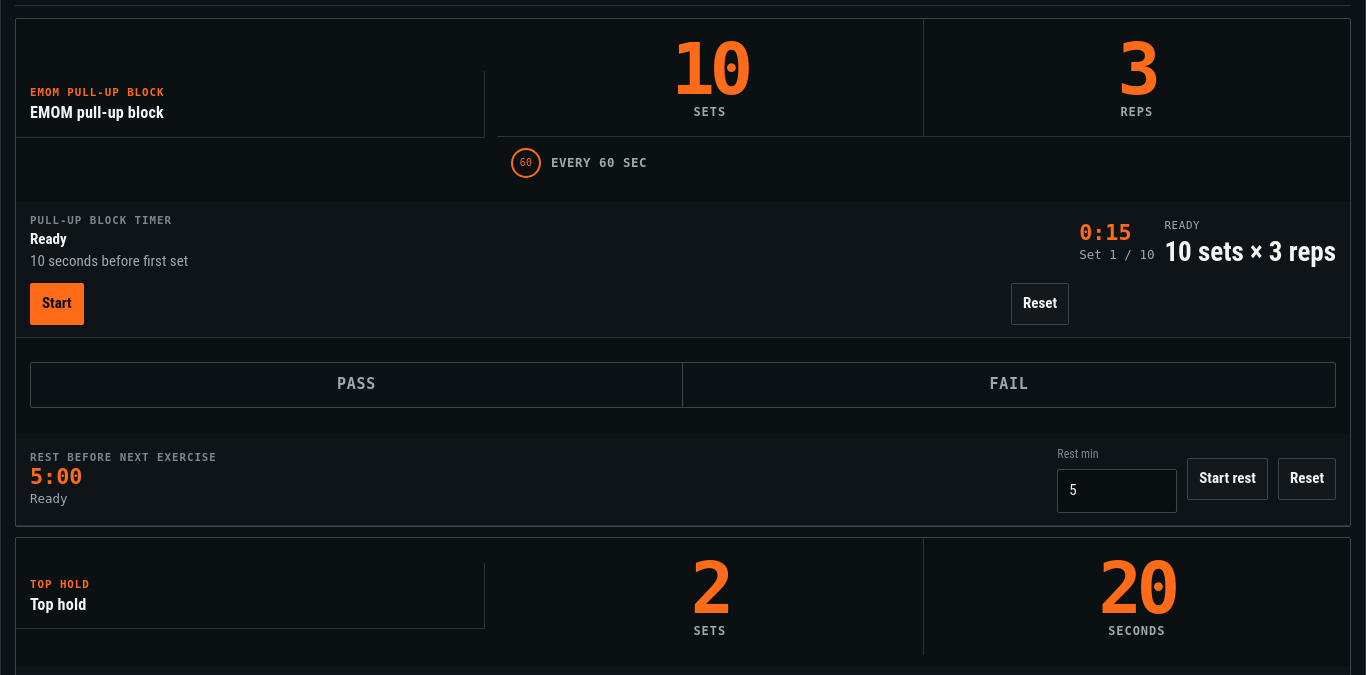
LogWorkoutScreen preset rows › autosaves preset outcomes as an in-progress workout draft
(page scrolled)
Click the button "pass" at (357, 385), box [31,363,683,407]
(page scrolled)
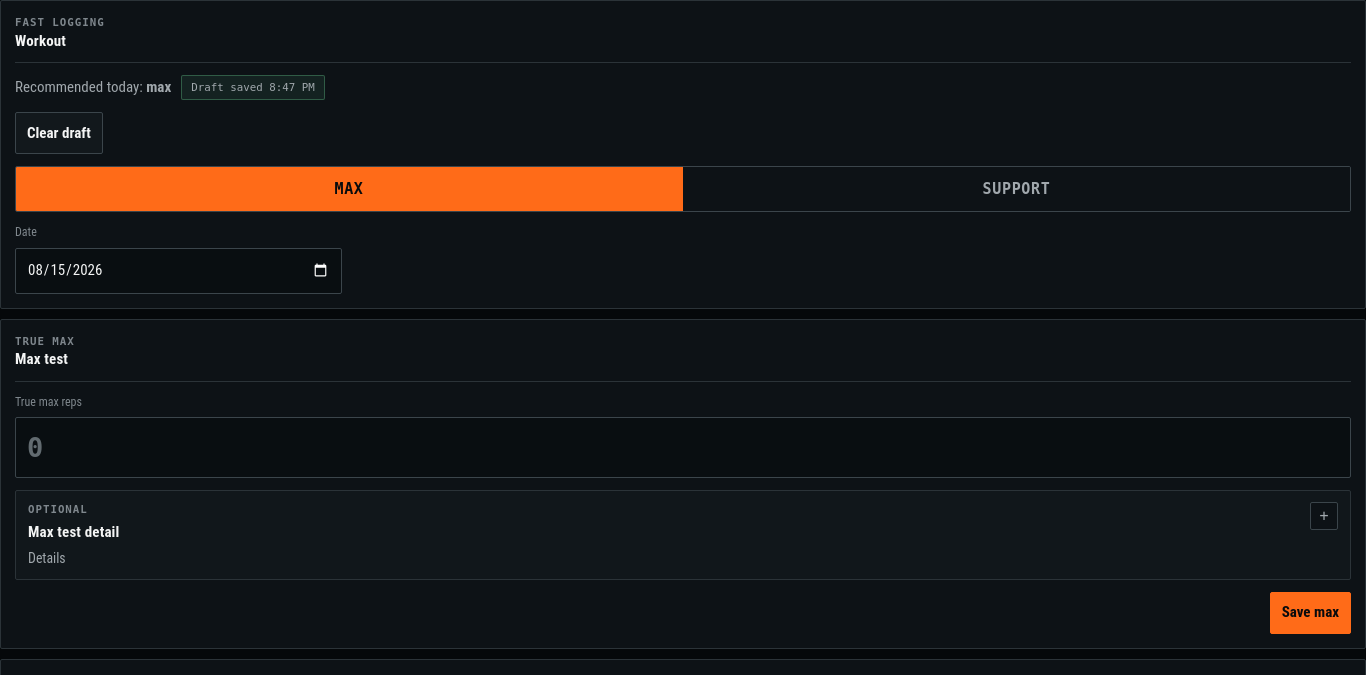
Now the text "Draft saved 8:47 PM" is shown, box [181,75,325,100]
